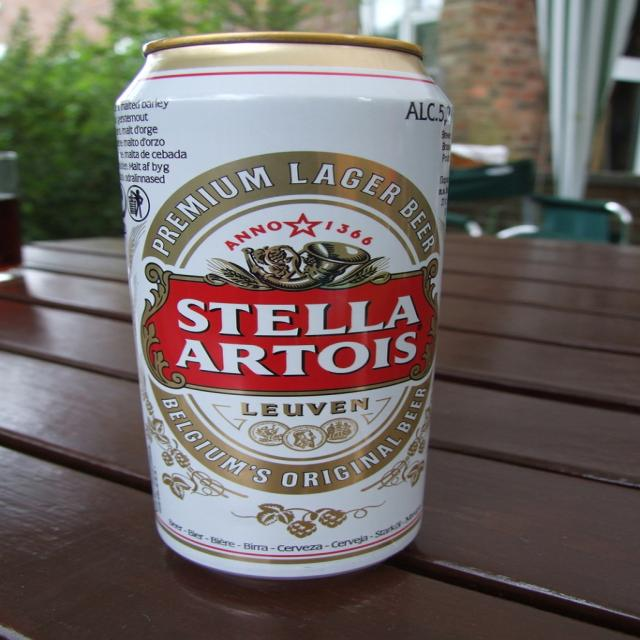stellaartois: (138, 149, 442, 497)
